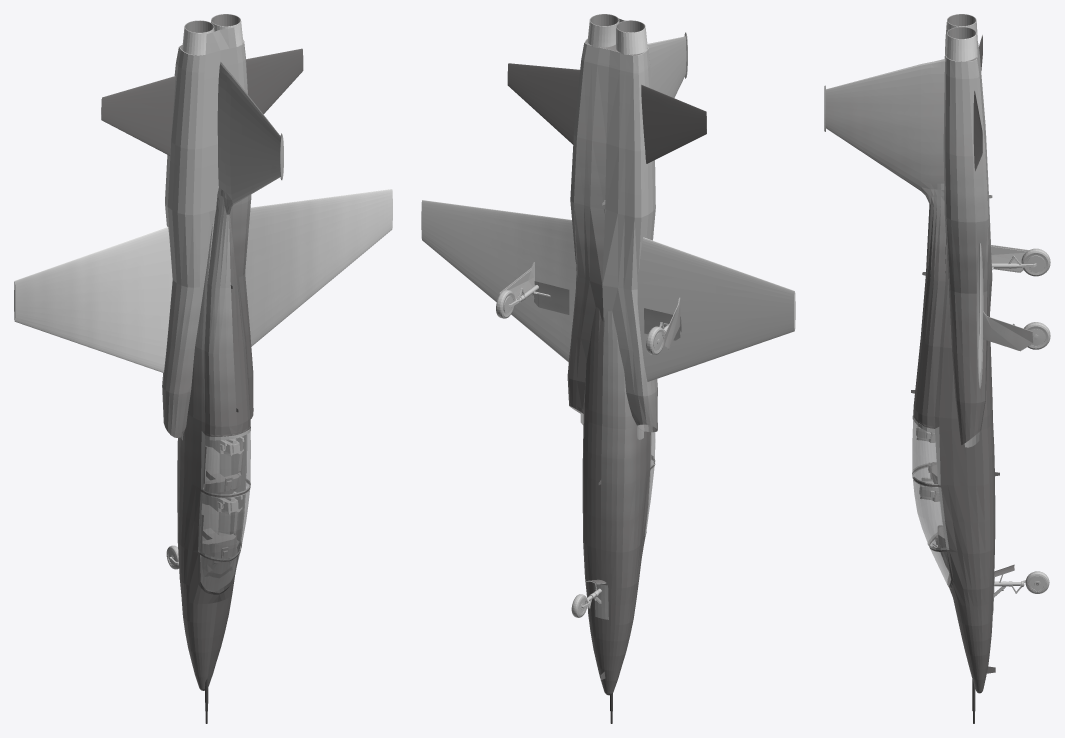
Rendered from TALblur.obj.
The picture shows the model from 3 angles, left to right: view 1: azimuth 30°, elevation 25°; view 2: azimuth 150°, elevation 25°; view 3: azimuth 270°, elevation 25°; orthographic projection.
Parts seen in each view (by area): view 1: CONTROL_Circle.004, COCKPIT_Circle.018, GLASS_2_Circle.012, GLASS_3_Circle.007, GLASS_1_Circle.009; view 2: CONTROL_Circle.004, GEAR_R_Circle, GEAR_FW_Circle.008; view 3: CONTROL_Circle.004, GEAR_R_Circle, GLASS_2_Circle.012, GLASS_3_Circle.007, COCKPIT_Circle.018, GEAR_FW_Circle.008, MARCO_2_Circle.005, GLASS_1_Circle.009.
Boxes of the visible parts, x1,y1,x2,y2 form: CONTROL_Circle.004: (14, 14, 392, 723); COCKPIT_Circle.018: (200, 435, 246, 590); GLASS_2_Circle.012: (200, 484, 250, 558); GLASS_3_Circle.007: (203, 432, 250, 494); GLASS_1_Circle.009: (200, 547, 240, 592); CONTROL_Circle.004: (421, 14, 795, 723); GEAR_R_Circle: (496, 262, 681, 355); GEAR_FW_Circle.008: (571, 579, 608, 619); CONTROL_Circle.004: (824, 14, 999, 723); GEAR_R_Circle: (982, 245, 1050, 351); GLASS_2_Circle.012: (912, 468, 945, 547); GLASS_3_Circle.007: (912, 420, 937, 483); COCKPIT_Circle.018: (916, 425, 951, 579); GEAR_FW_Circle.008: (992, 564, 1049, 613); MARCO_2_Circle.005: (912, 415, 940, 485); GLASS_1_Circle.009: (930, 540, 950, 585).
Size of the model in its own units: 3.53 by 6.3 by 1.85.
